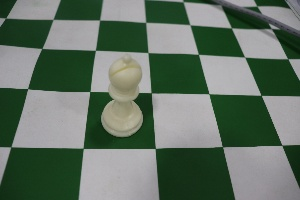white_bishop: (96, 39, 146, 148)
